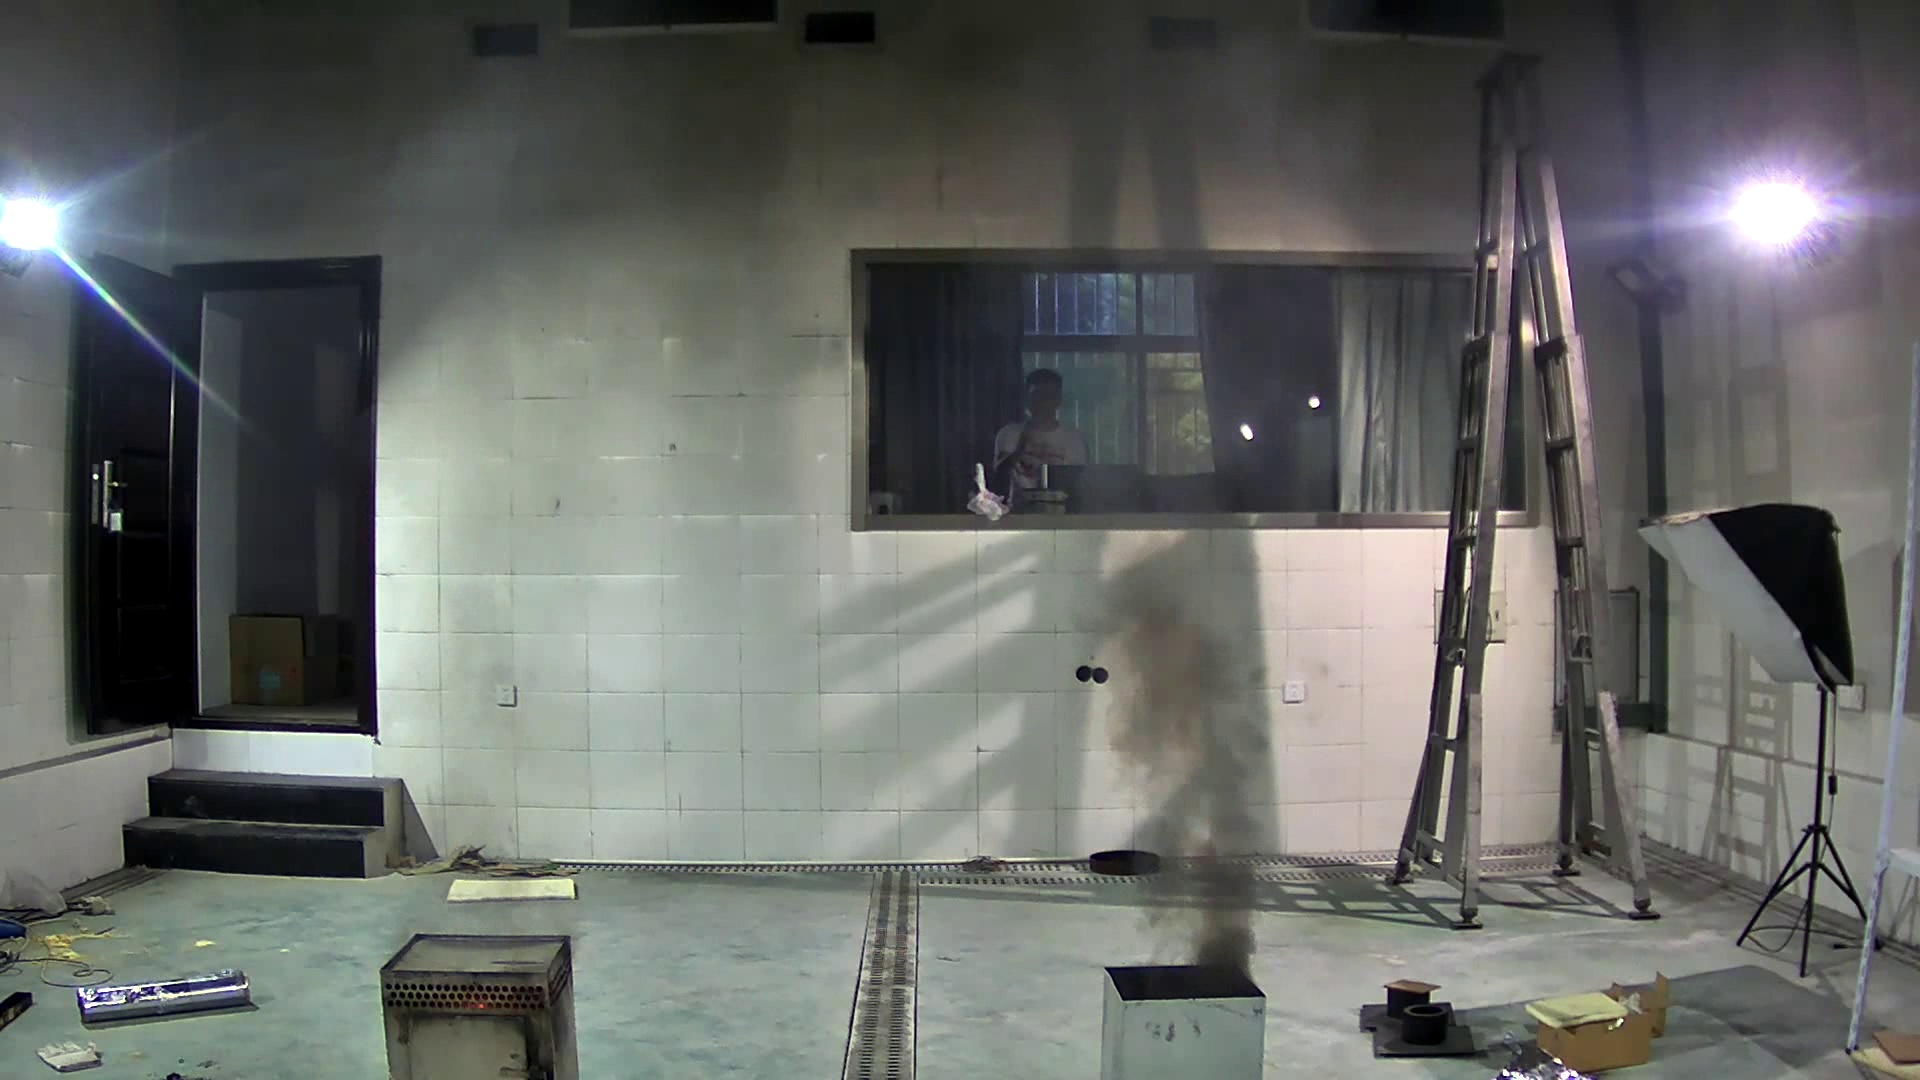smoke: (1079, 545, 1286, 967)
